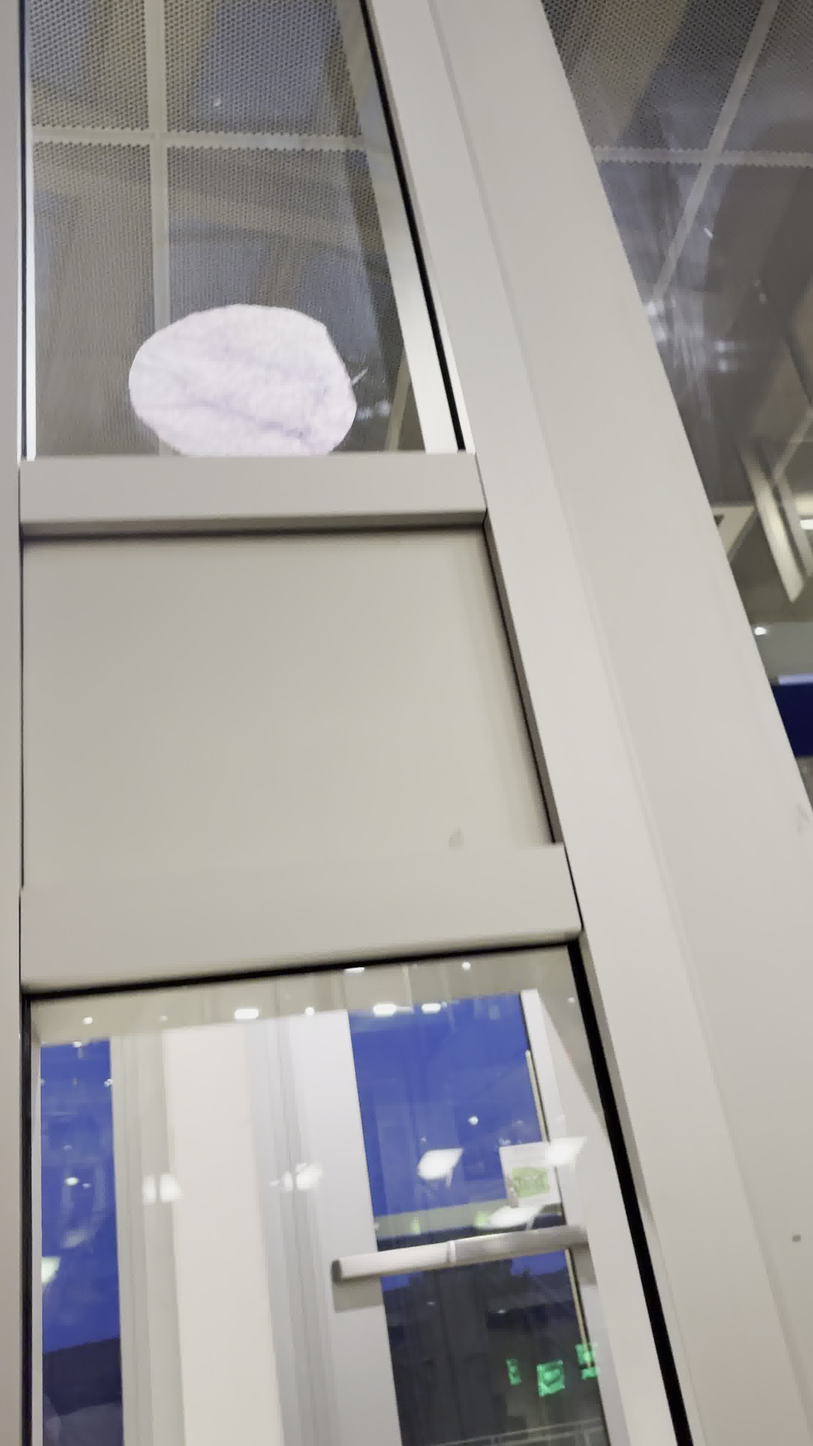Target: (126, 304, 360, 462)
